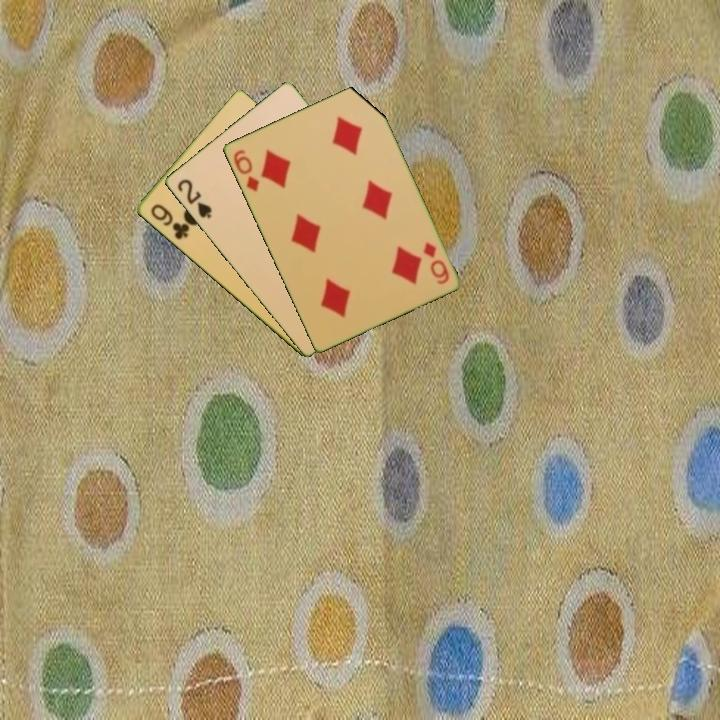2s: (173, 175, 214, 221)
6d: (229, 146, 262, 195), (419, 238, 452, 287)
9c: (147, 201, 192, 243)
